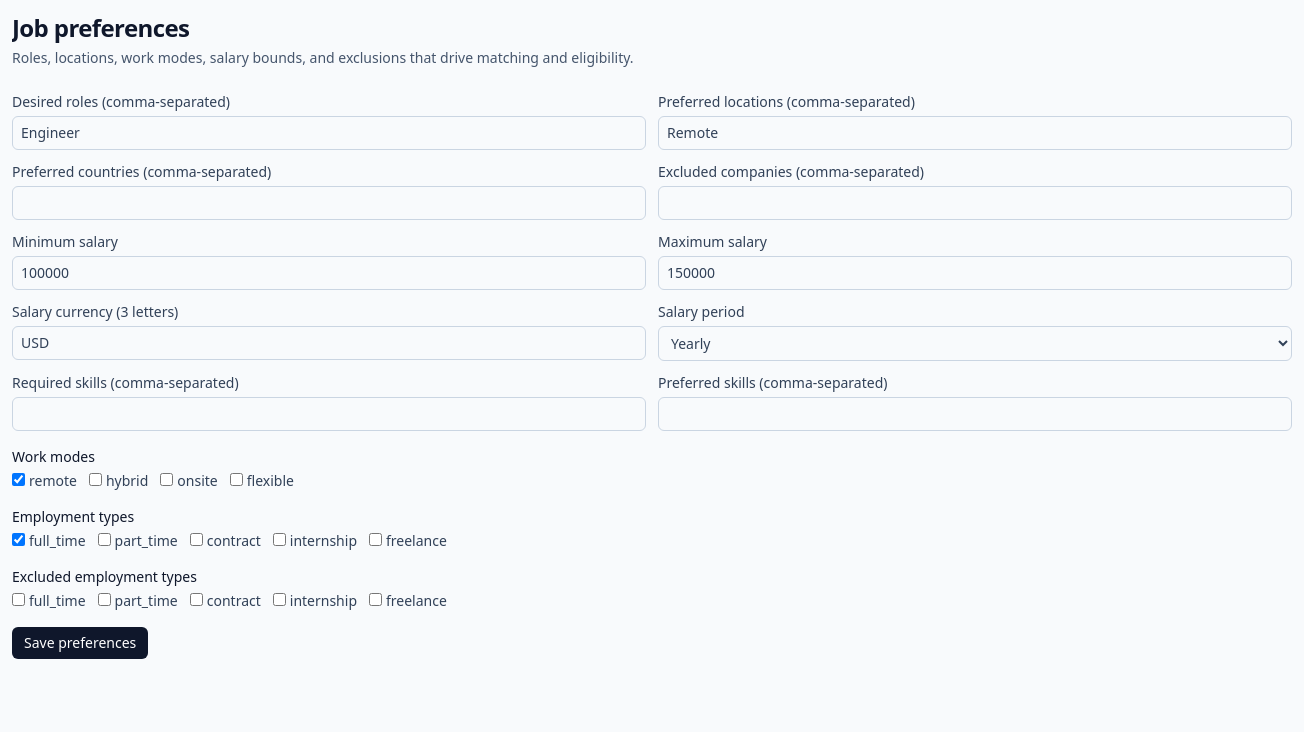
Test: PreferencesPage › rejects an inverted salary range before requesting
This screenshot has width=1304, height=732.
Expected: the field showing "Engineer" is shown, [12,116,646,150]
Replace the text in the number field labelled "Minimum salary" with "200000" at point(329, 273), box [12,256,646,290]
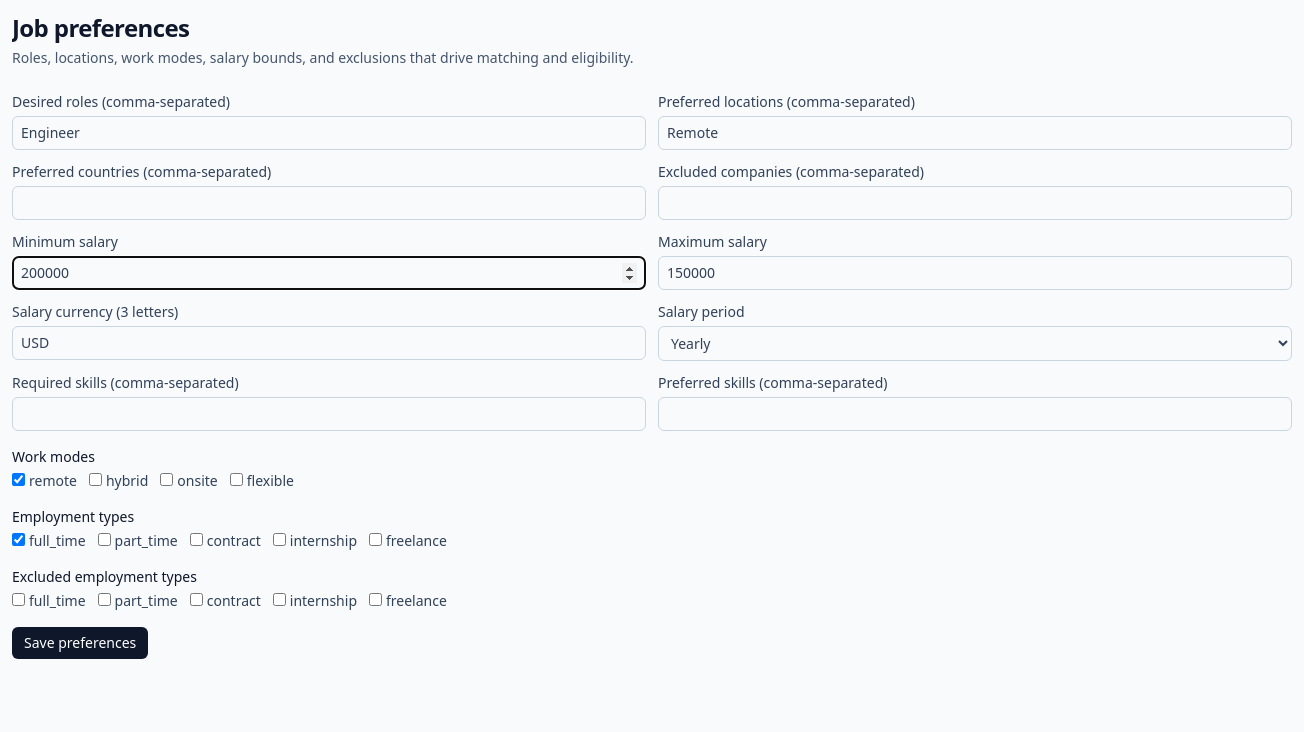
Replace the text in the number field labelled "Maximum salary" with "100000" at point(975, 273), box [658,256,1292,290]
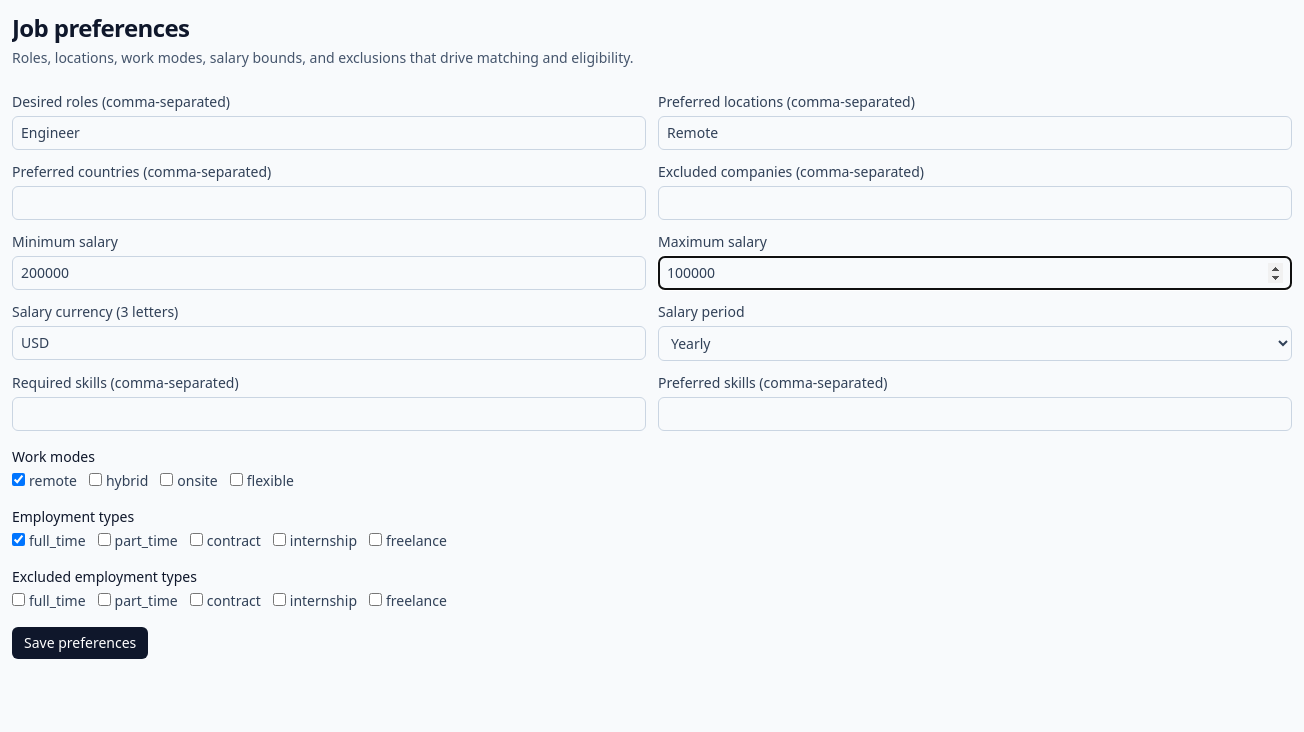
Click the button "Save preferences".
click(80, 643)  # box [12,627,148,659]
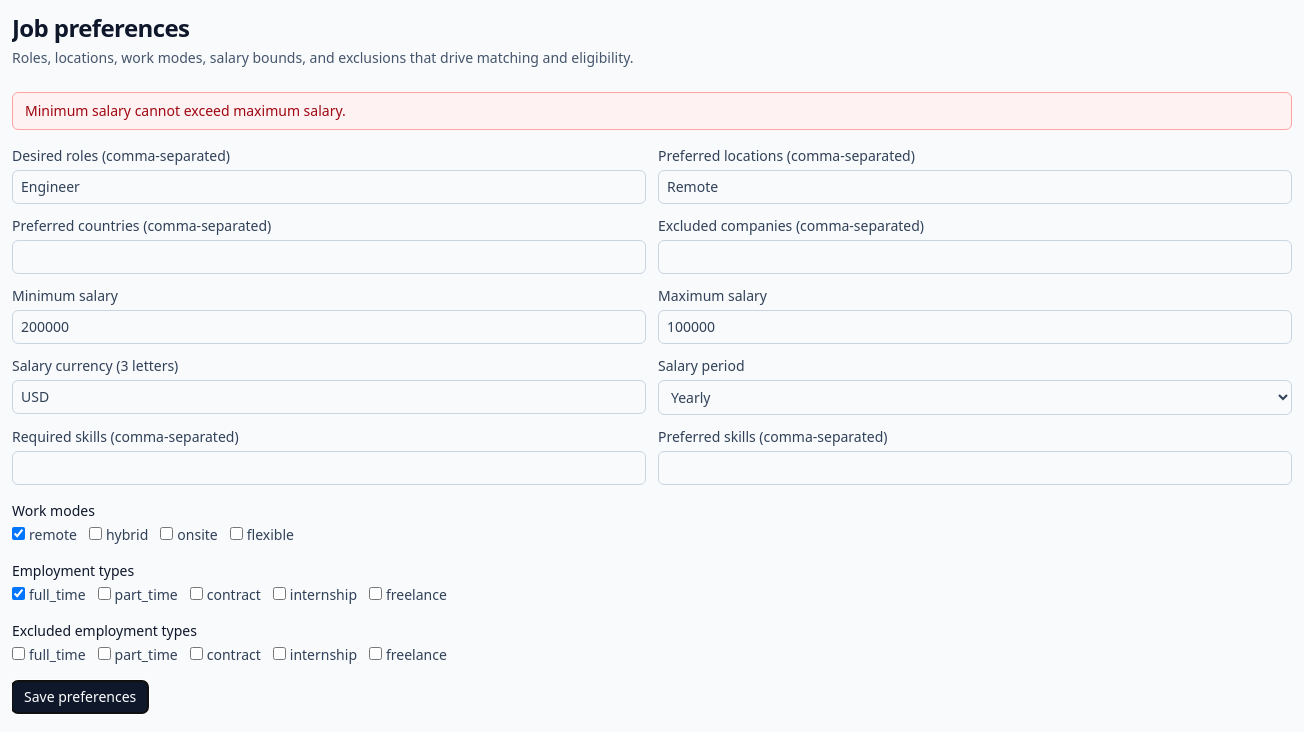
Expected: the text "Minimum salary cannot exceed maximum salary." is shown, [12,92,1292,130]
